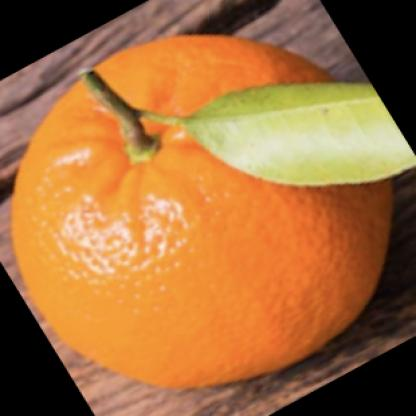fresh: (14, 33, 395, 388)
